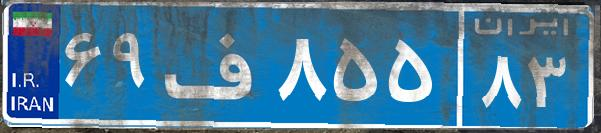3: (525, 38, 570, 115)
5: (385, 28, 445, 110), (330, 28, 385, 110)
6: (57, 26, 110, 107)
8: (273, 28, 330, 110), (475, 38, 525, 113)
9: (110, 28, 158, 105)
ف: (158, 15, 273, 115)
